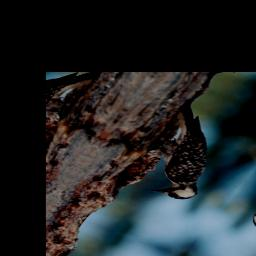Woodpecker: (115, 95, 256, 210)
